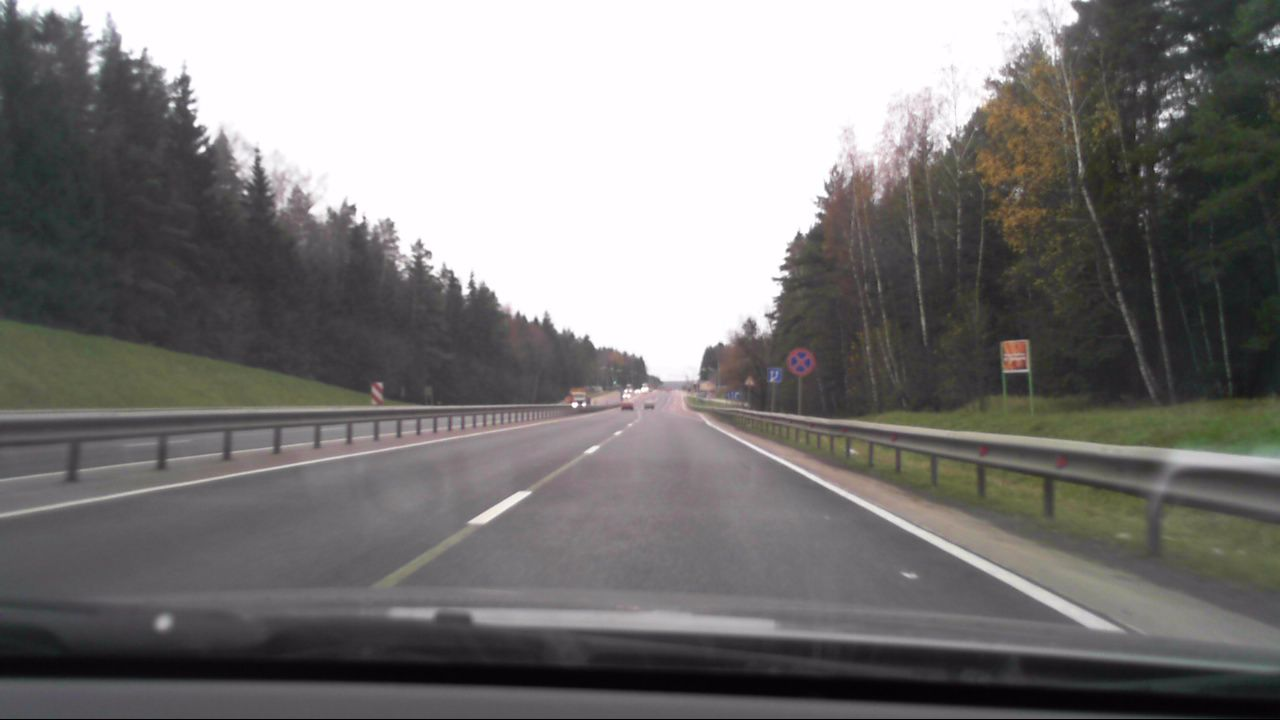No Parking: (786, 348, 815, 378)
